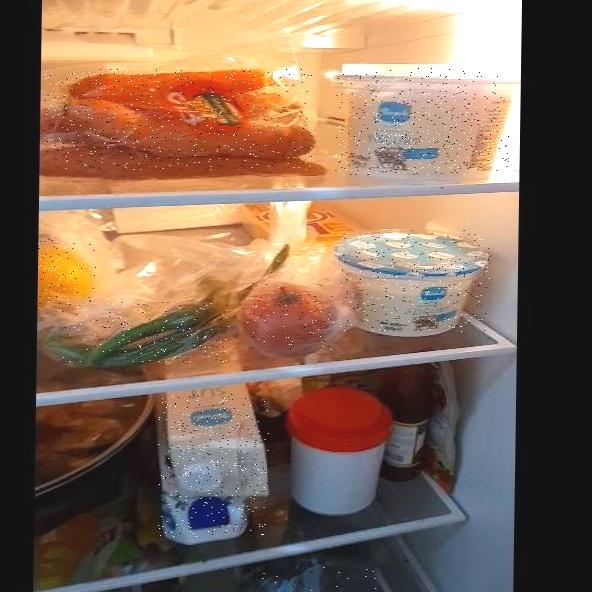broccoli: (234, 566, 403, 592)
carrot: (43, 69, 313, 170)
green chilies: (60, 302, 230, 362)
lemon: (37, 239, 97, 313)
milk: (157, 394, 269, 537)
tomato: (245, 283, 335, 350)
yoghurt: (335, 68, 510, 175), (340, 230, 491, 332)
